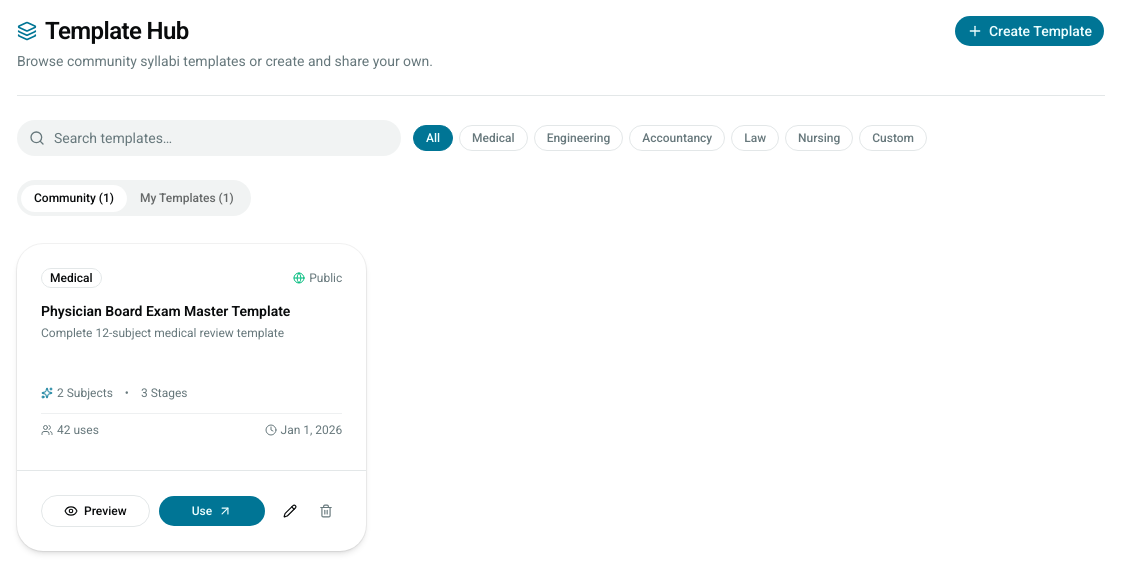
Test: Template UI Components Test Suite › TemplateHubClient Component › switches to 'My Templates' tab and displays user's private templates
What coordinates should you click on to do the following:
click the tab "My Templates (1)"
I would click on:
 (187, 198)
Its box is [127,184,247,212].
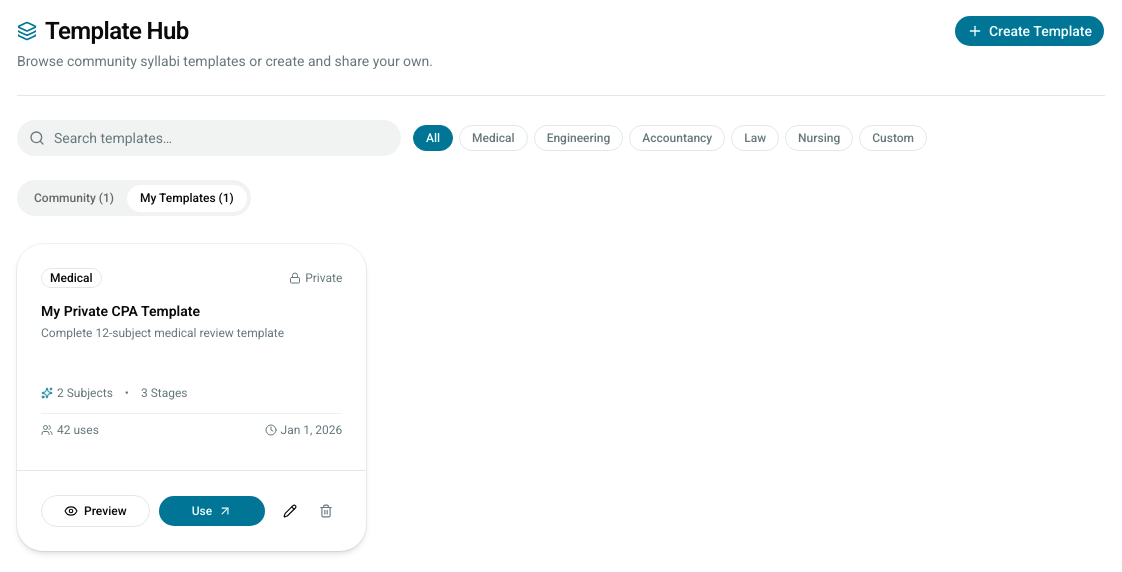
Result: the text "My Private CPA Template" is shown at [41,303,200,319]
